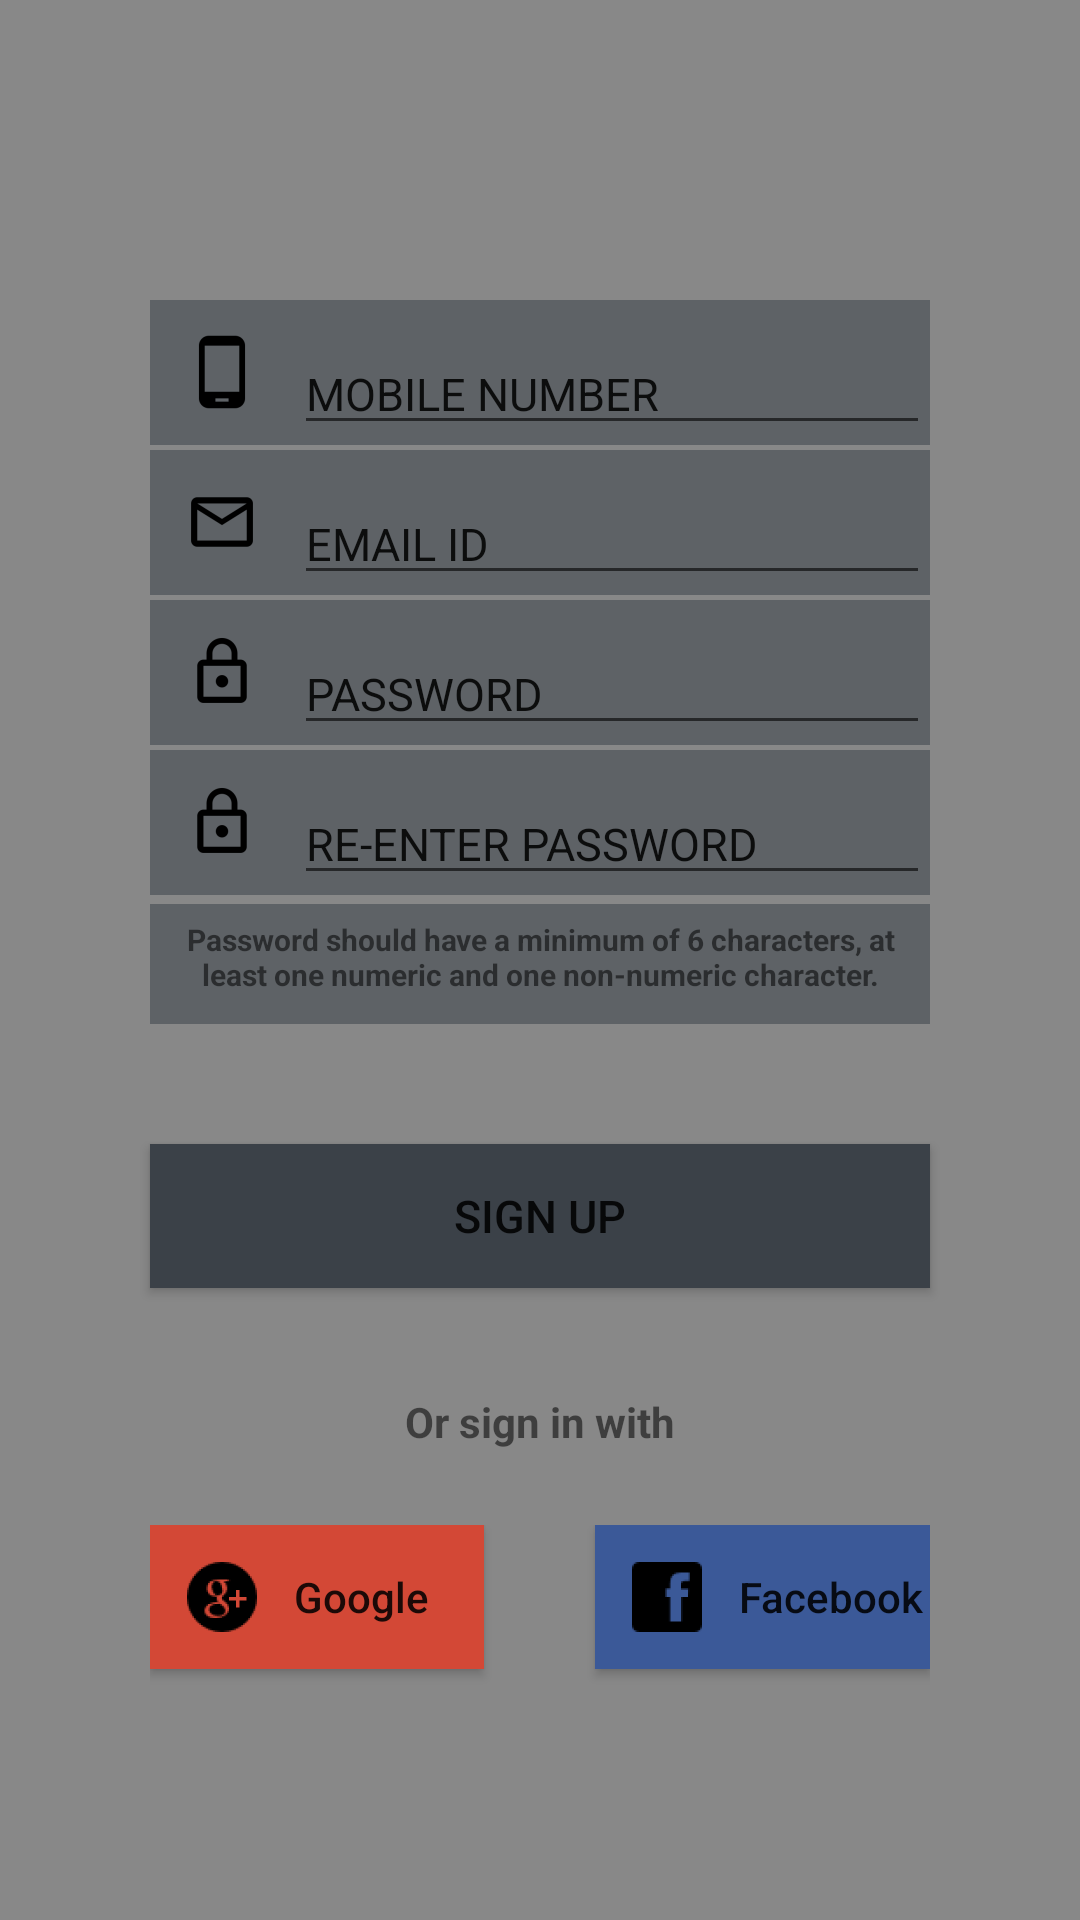

Locate icon controls on the screen. Image size 1080 × 1920, boxes as {"x1": x1, "y1": y1, "x2": x2, "y2": y2}.
lock: {"x1": 197, "y1": 638, "x2": 247, "y2": 703}, {"x1": 197, "y1": 788, "x2": 247, "y2": 853}
